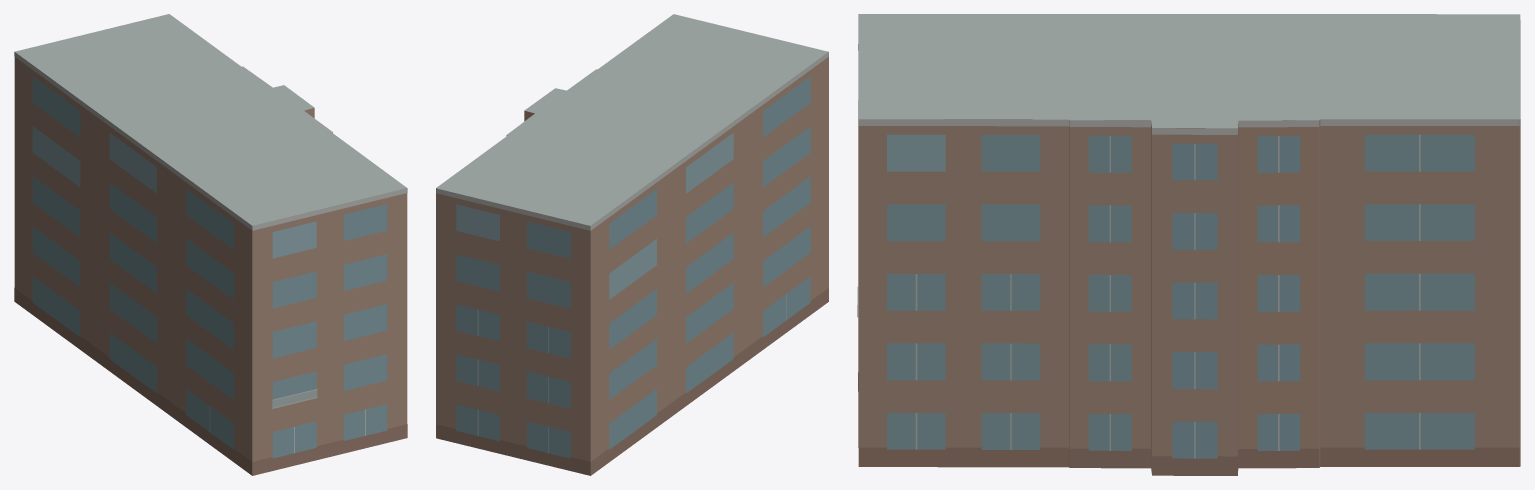
File: survey-upis-33015603.glb
3 renders of one model, left to right at view 1: azimuth 30°, elevation 25°; view 2: azimuth 150°, elevation 25°; view 3: azimuth 270°, elevation 25°, orthographic. The views are drawn at different scales.
Parts seen in each view (by area): view 1: survey-upis-33015603.tmp; view 2: survey-upis-33015603.tmp; view 3: survey-upis-33015603.tmp.
Part boxes in pixels (x1,y1,x2,y2): survey-upis-33015603.tmp: (14,14,407,475); survey-upis-33015603.tmp: (436,14,828,475); survey-upis-33015603.tmp: (857,14,1520,475).
Bounding box in the file's own units: 8.89 × 12.6 × 21.8.
